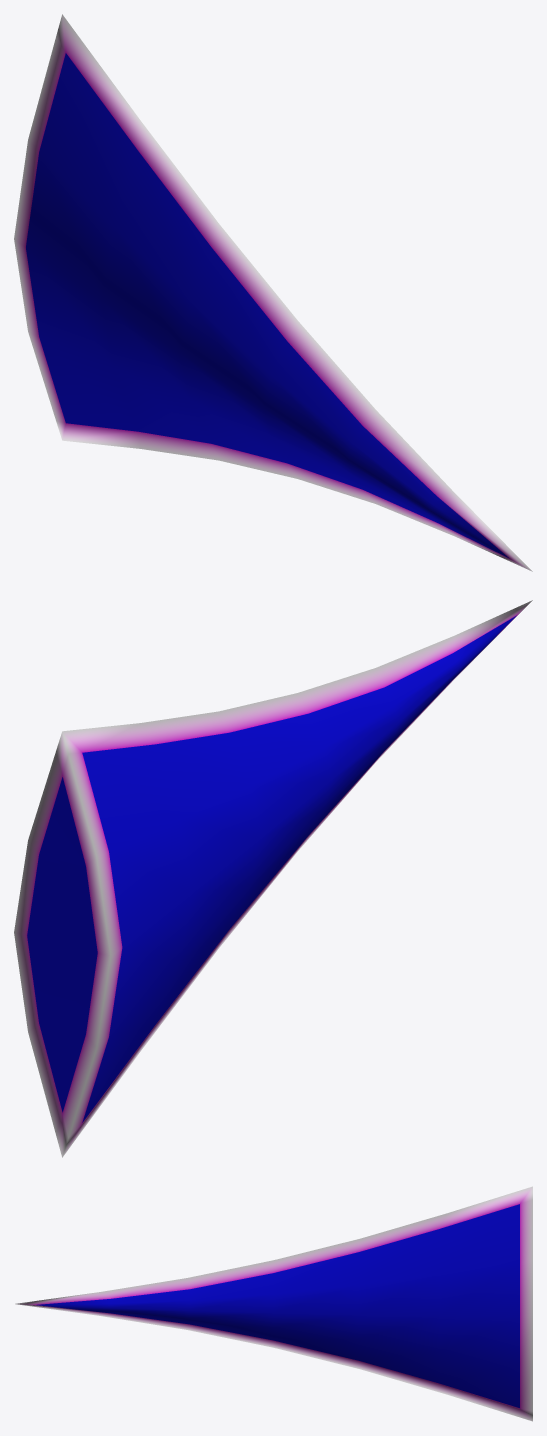
Rendered from checkpoint_arrow.fbx.
3 renders of one model, top to bottom at view 1: azimuth 30°, elevation 25°; view 2: azimuth 150°, elevation 25°; view 3: azimuth 270°, elevation 25°, orthographic. The views are drawn at different scales.
Visible parts, largest first — view 1: CP_arrow; view 2: CP_arrow; view 3: CP_arrow.
Part boxes in pixels (<box>): CP_arrow: <box>14,14,532,571</box>; CP_arrow: <box>14,600,532,1157</box>; CP_arrow: <box>15,1186,532,1421</box>.
Bounding box in the file's own units: 0.4745 × 2 × 4.
